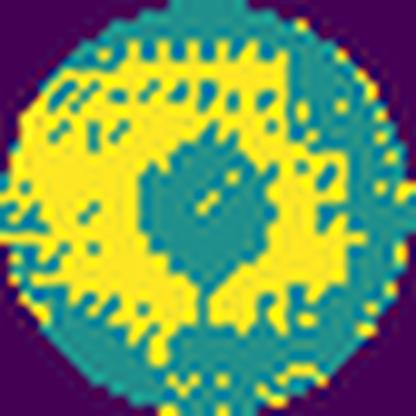Donut: (24, 39, 356, 333)
